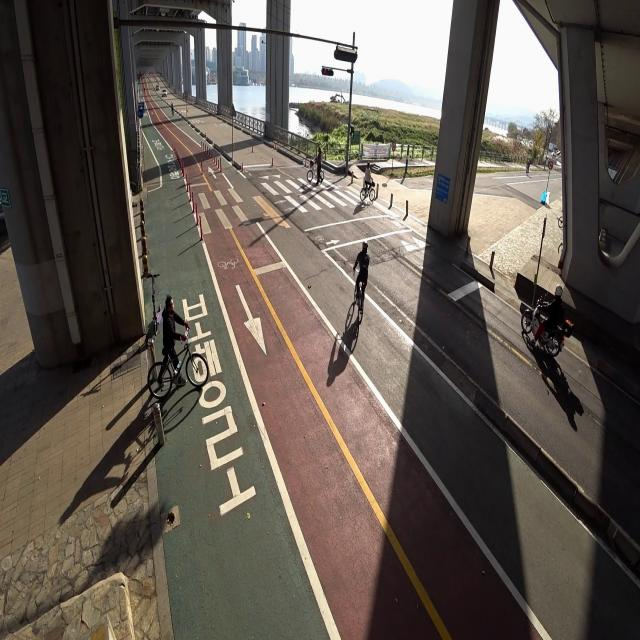Motorcycle: (520, 282, 566, 358)
